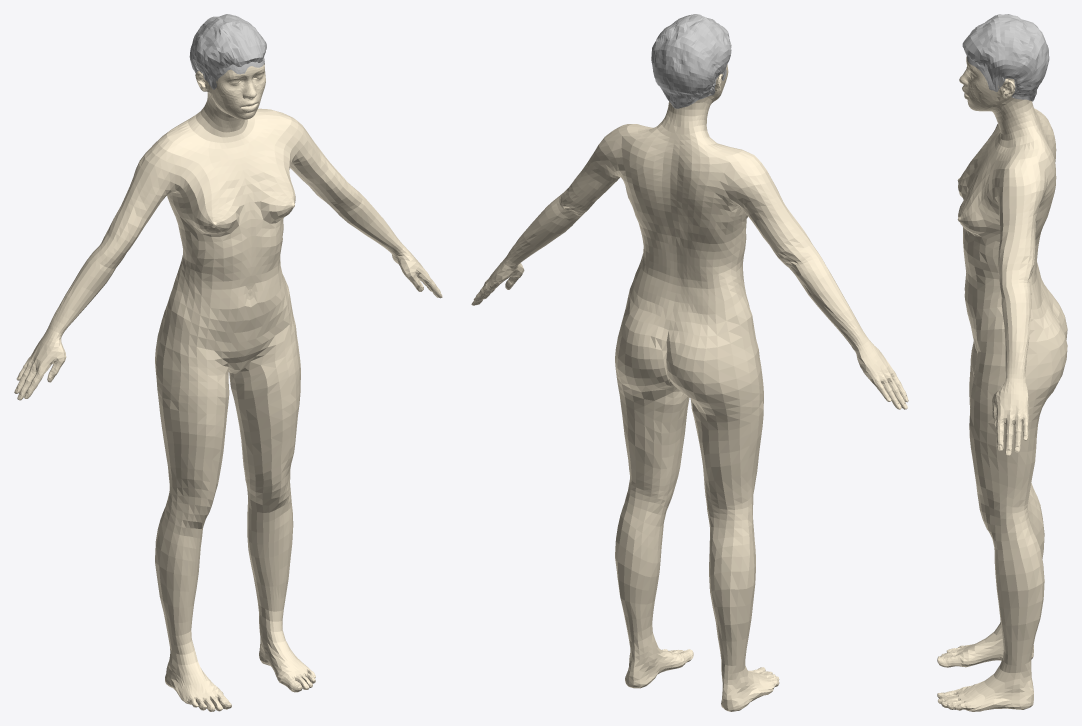
File: Body.obj
The picture shows the model from 3 angles, left to right: view 1: azimuth 30°, elevation 25°; view 2: azimuth 150°, elevation 25°; view 3: azimuth 270°, elevation 25°; orthographic projection. The views are drawn at different scales.
Visible parts, largest first — view 1: base.obj, short02.obj; view 2: base.obj, short02.obj; view 3: base.obj, short02.obj.
Boxes of the visible parts, <box> form: base.obj: <box>14,64,442,711</box>; short02.obj: <box>189,14,266,92</box>; base.obj: <box>471,64,908,711</box>; short02.obj: <box>651,14,731,108</box>; base.obj: <box>937,56,1067,711</box>; short02.obj: <box>962,14,1049,101</box>.
Size of the model in its own units: 11.33 by 16.89 by 3.
